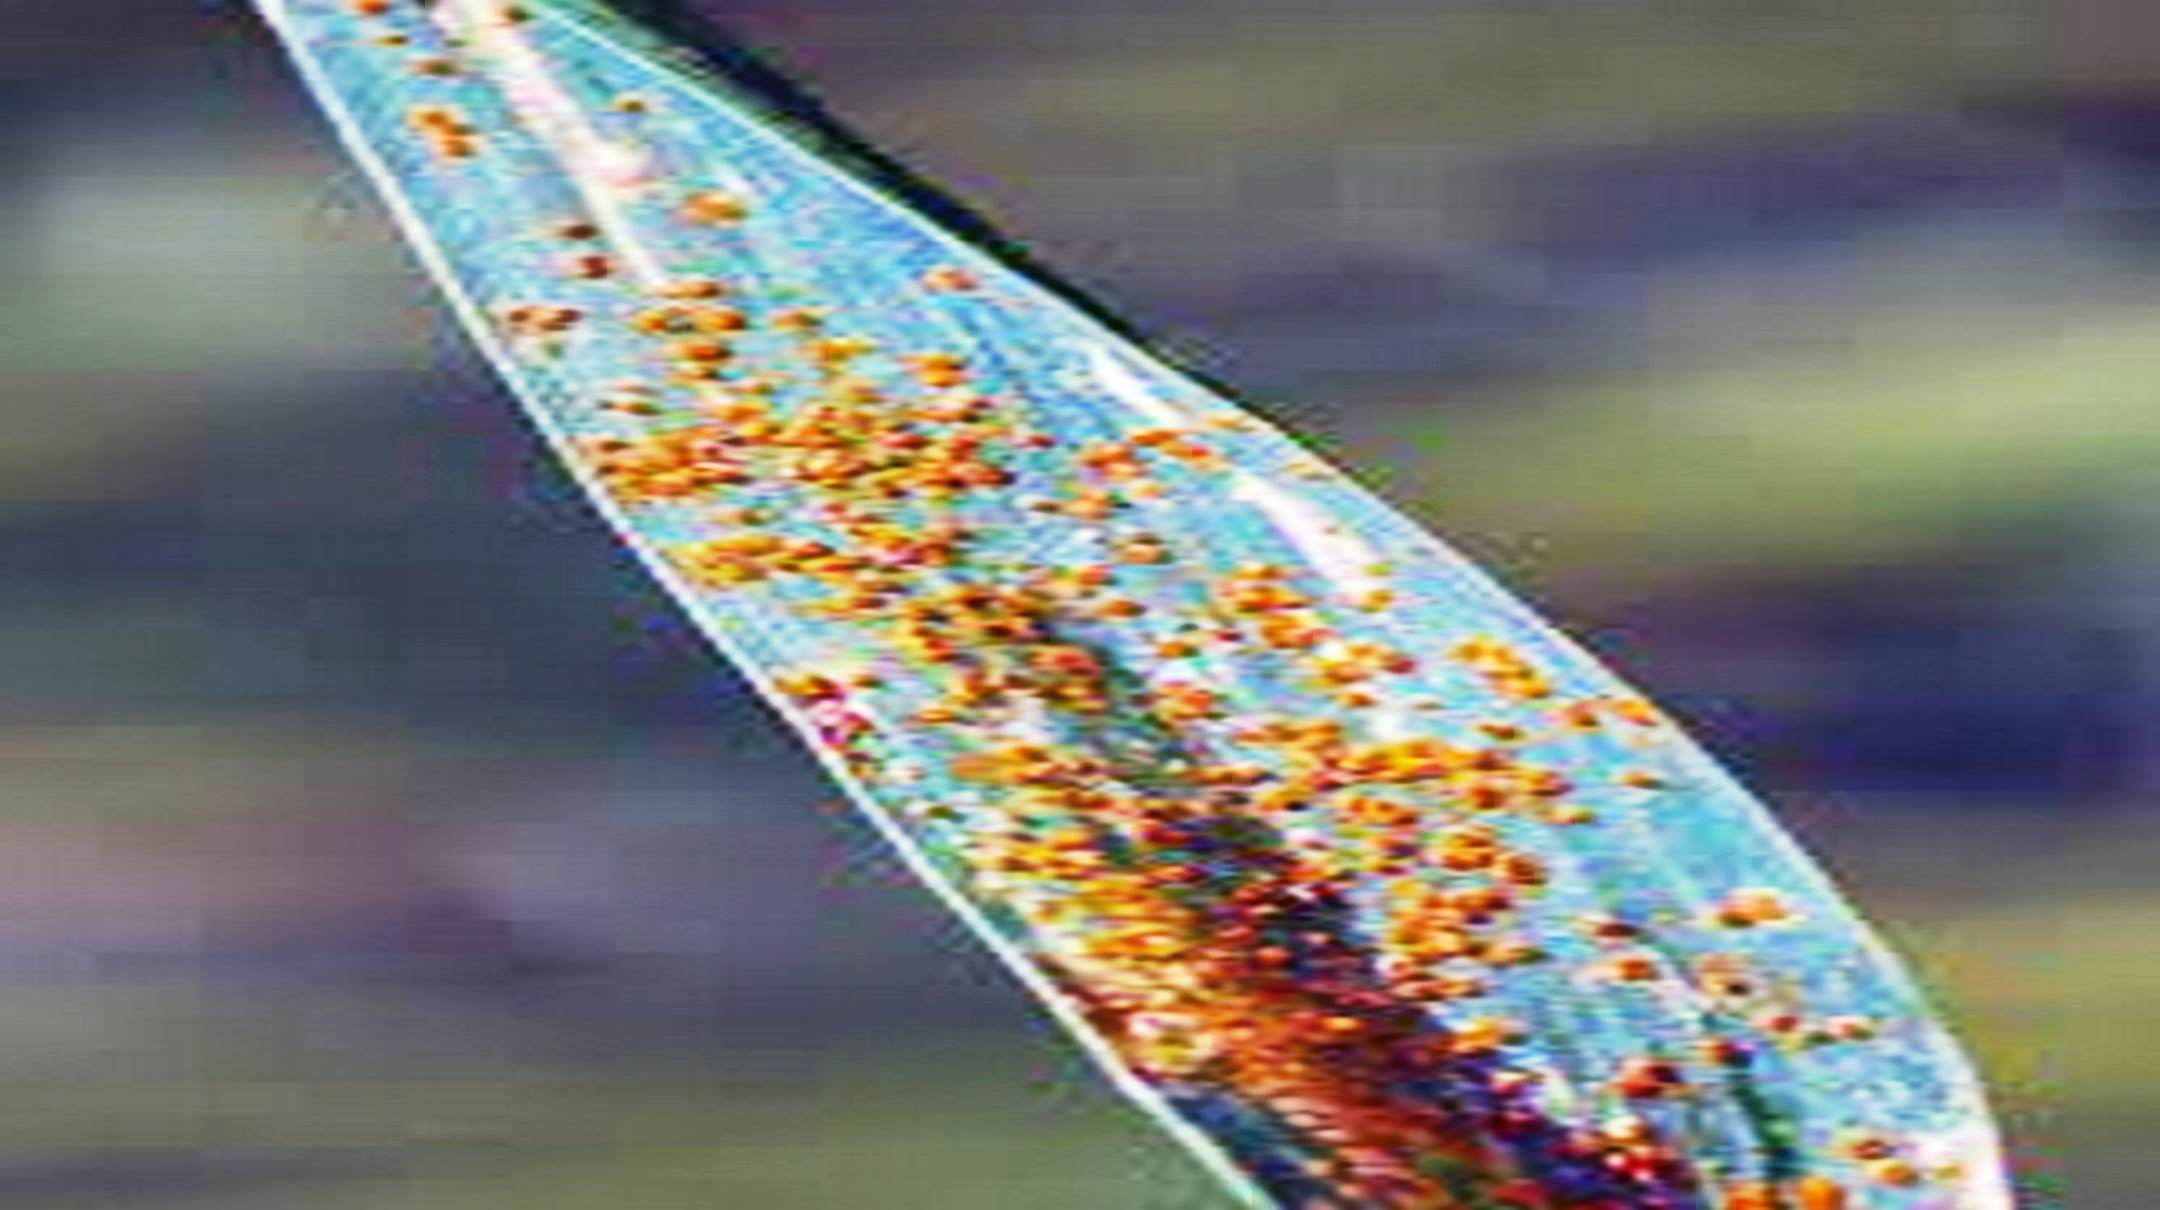Leaf Rust: (620, 249, 1578, 946)
